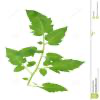Tomato leaf: (20, 7, 53, 37), (42, 25, 71, 49), (49, 59, 87, 74), (4, 45, 26, 67), (39, 80, 70, 95), (18, 43, 39, 58), (43, 52, 67, 63)
